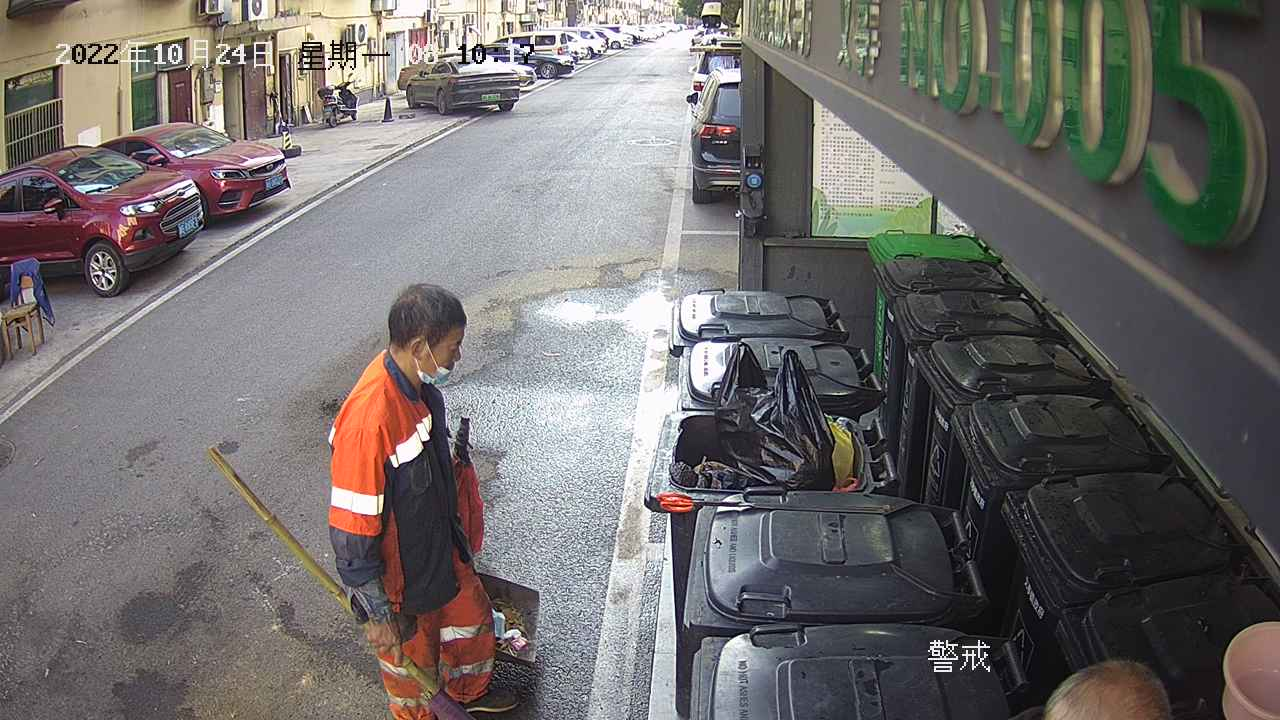worker: (322, 277, 529, 720)
